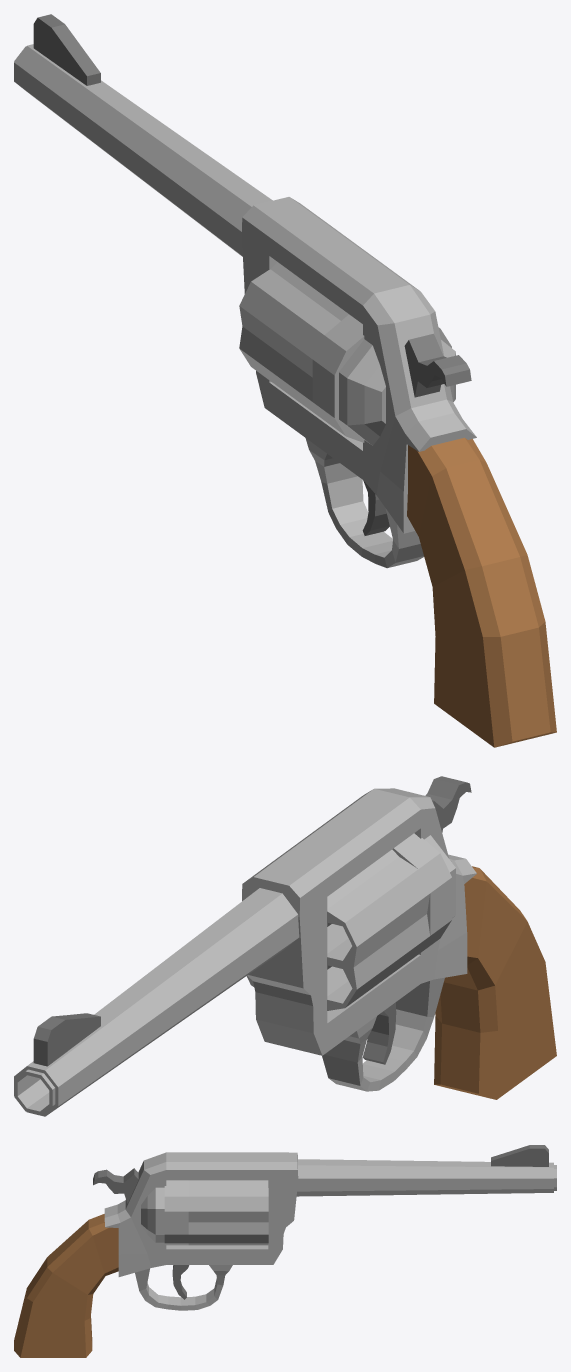
Rendered from Revolver-A.glb.
The picture shows the model from 3 angles, top to bottom: view 1: azimuth 30°, elevation 25°; view 2: azimuth 150°, elevation 25°; view 3: azimuth 270°, elevation 25°; orthographic projection. The views are drawn at different scales.
Parts seen in each view (by area): view 1: BigIron_0d3f8f, BigIron_f581f6, BigIron_280dc6; view 2: BigIron_0d3f8f, BigIron_f581f6, BigIron_280dc6; view 3: BigIron_0d3f8f, BigIron_f581f6, BigIron_280dc6.
Boxes of the visible parts, left/top/right/bottom form: BigIron_0d3f8f: left=14, top=44, right=476, bottom=568; BigIron_f581f6: left=407, top=437, right=556, bottom=747; BigIron_280dc6: left=33, top=14, right=471, bottom=535; BigIron_0d3f8f: left=14, top=788, right=476, bottom=1116; BigIron_f581f6: left=434, top=866, right=556, bottom=1099; BigIron_280dc6: left=33, top=776, right=471, bottom=1066; BigIron_0d3f8f: left=104, top=1152, right=556, bottom=1310; BigIron_f581f6: left=14, top=1214, right=118, bottom=1357; BigIron_280dc6: left=93, top=1145, right=548, bottom=1299.
Bounding box in the file's own units: 0.1363 × 0.4121 × 1.
